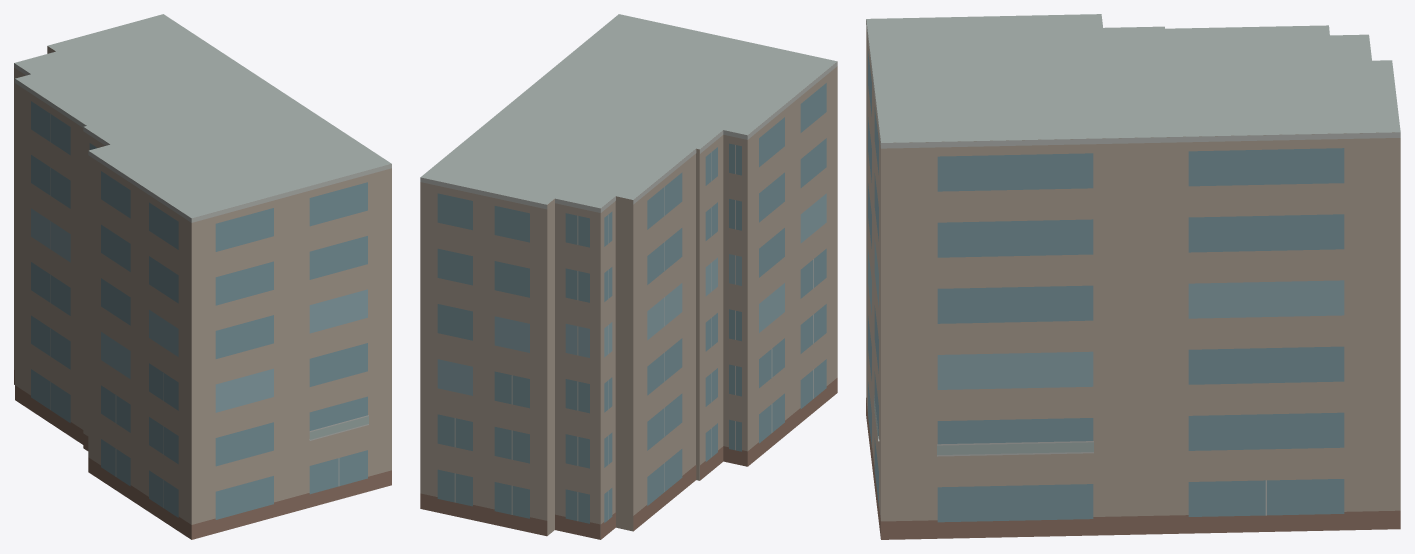
Rendered from survey-upis-32744390.glb.
3 renders of one model, left to right at view 1: azimuth 30°, elevation 25°; view 2: azimuth 150°, elevation 25°; view 3: azimuth 270°, elevation 25°, orthographic. The views are drawn at different scales.
Visible parts, largest first — view 1: survey-upis-32744390.tmp; view 2: survey-upis-32744390.tmp; view 3: survey-upis-32744390.tmp.
Part boxes in pixels (<box>): survey-upis-32744390.tmp: <box>14,14,391,539</box>; survey-upis-32744390.tmp: <box>420,14,837,539</box>; survey-upis-32744390.tmp: <box>866,14,1400,539</box>.
Size of the model in its own units: 12.14 by 17.4 by 21.25.
